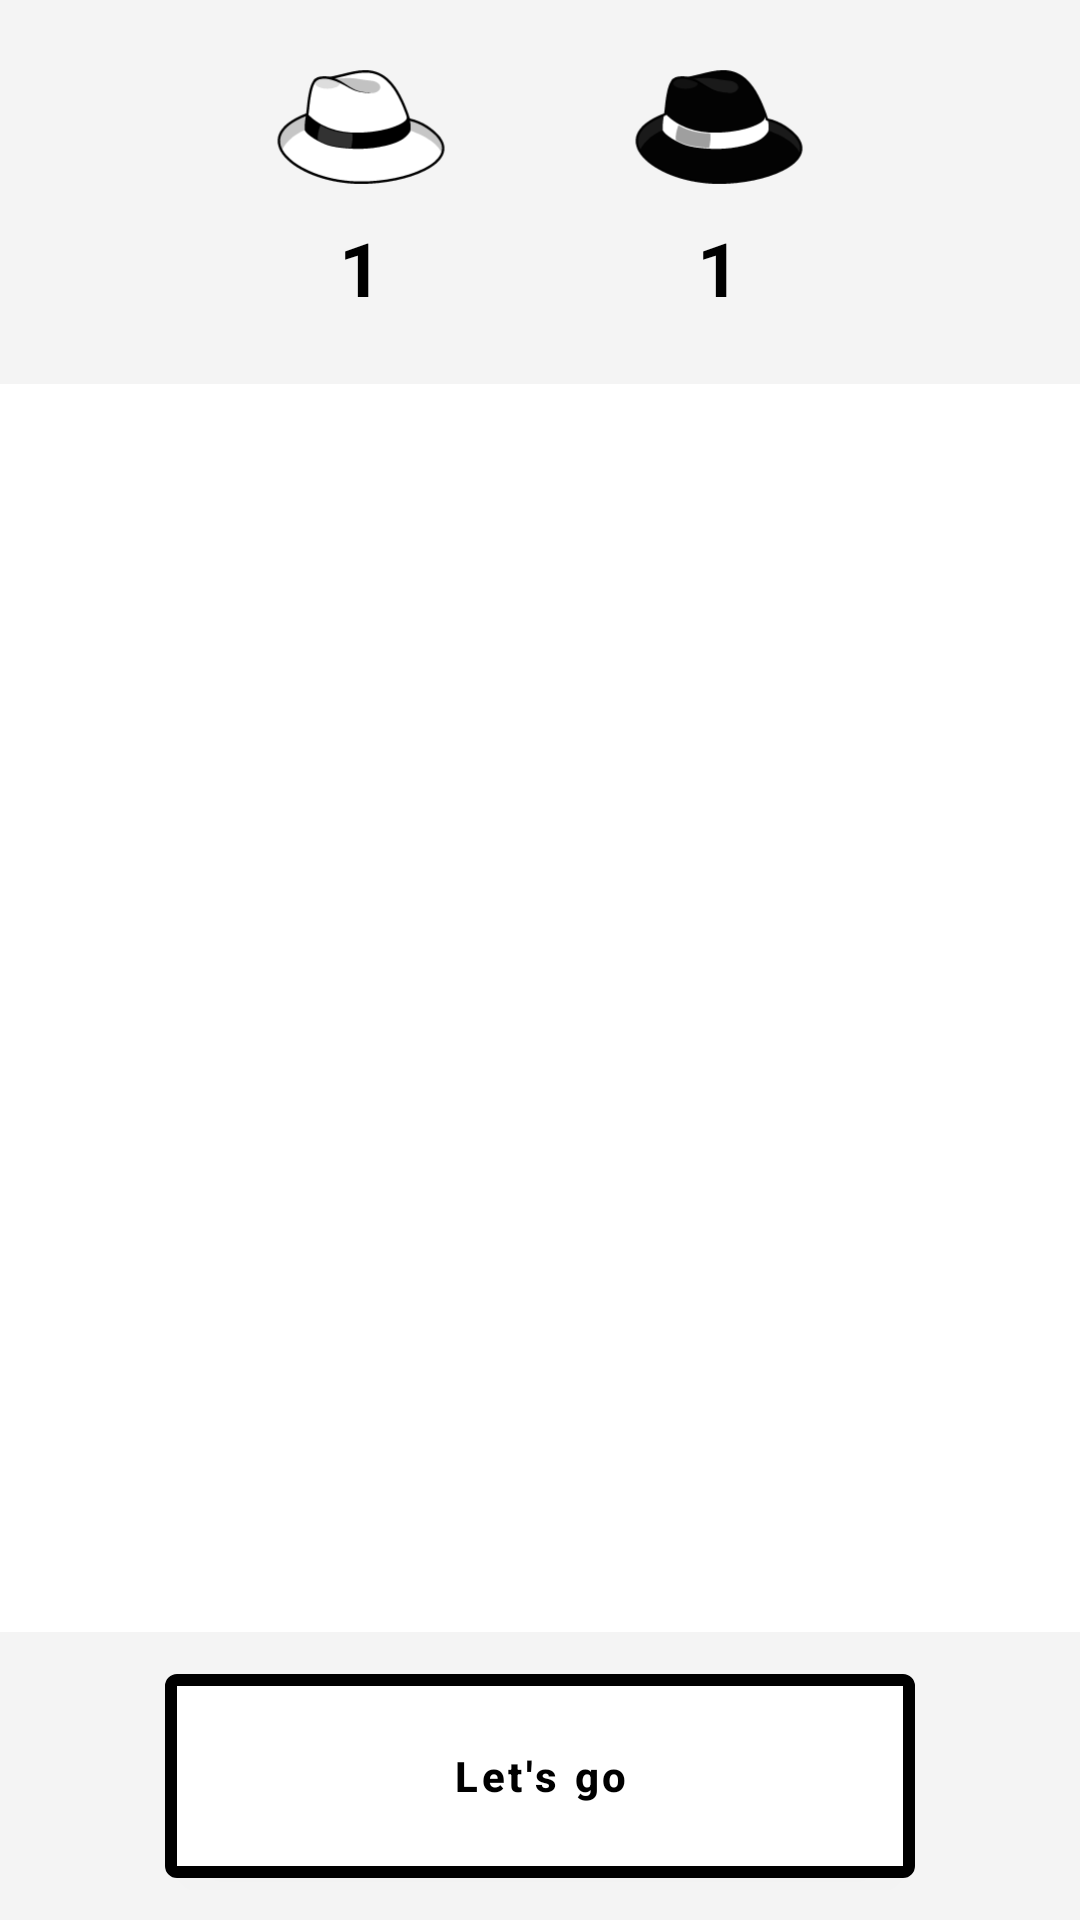

Named icons in this screenshot (1080 × 1920) and their bounding boxes, rect(x1, y1, x2, y2):
hat: rect(277, 70, 445, 184), rect(635, 70, 803, 184)
